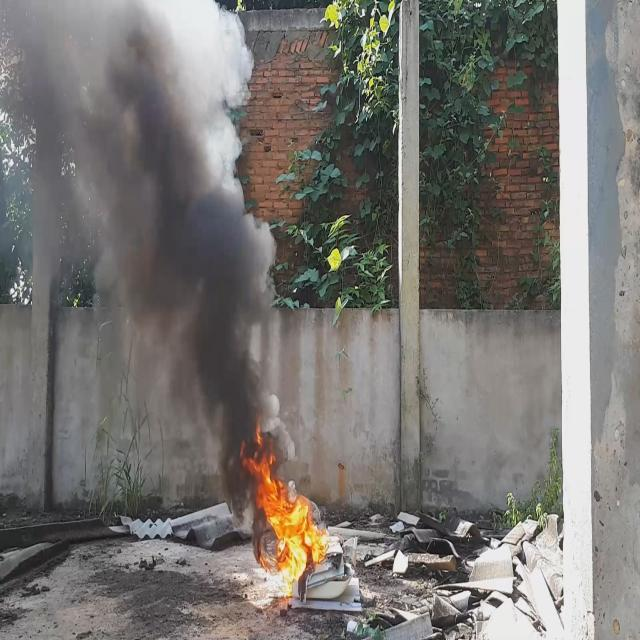Fire: (240, 424, 330, 576)
Smoke: (0, 0, 294, 523)
